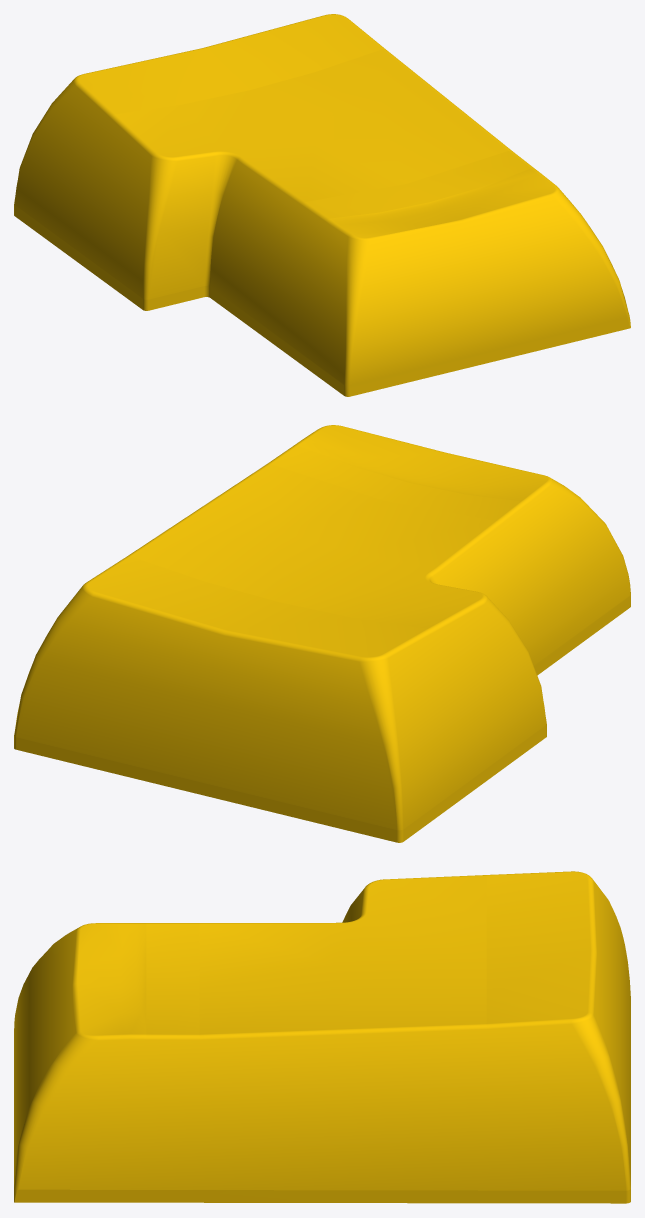
File: KAT_ISO_ENTER.glb
The picture shows the model from 3 angles, top to bottom: view 1: azimuth 30°, elevation 25°; view 2: azimuth 150°, elevation 25°; view 3: azimuth 270°, elevation 25°; orthographic projection. The views are drawn at different scales.
Parts seen in each view (by area): view 1: Object.064; view 2: Object.064; view 3: Object.064.
Boxes of the visible parts, x1,y1,x2,y2 form: Object.064: (14, 14, 630, 396); Object.064: (14, 425, 630, 842); Object.064: (14, 871, 630, 1203).
Bounding box in the file's own units: 27.67 × 10.69 × 37.18.
